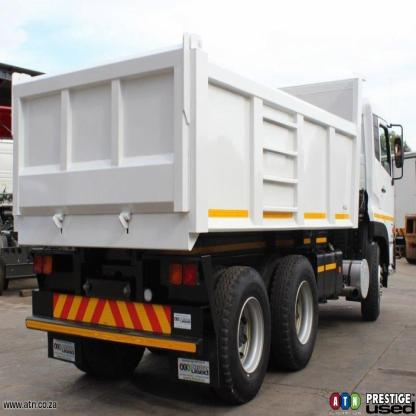dump_truck: (7, 32, 408, 399)
